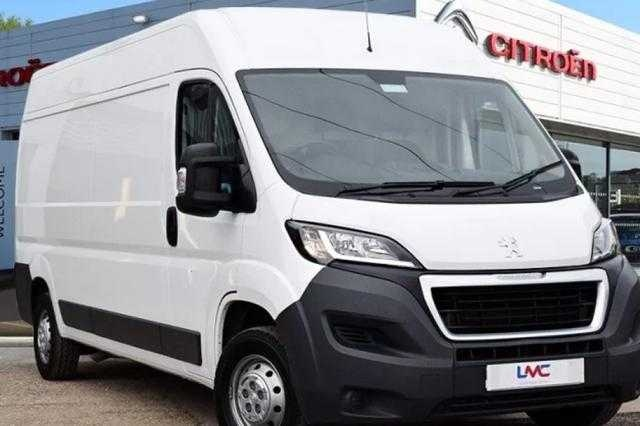van: (14, 6, 640, 426)
